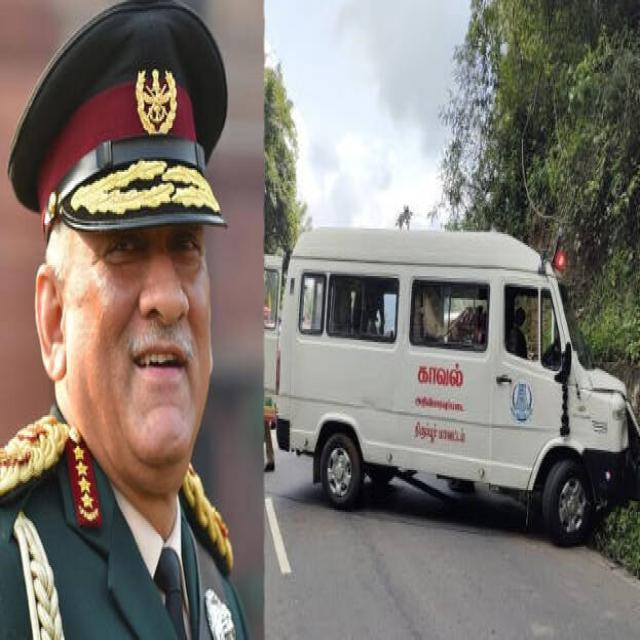accident: (265, 229, 640, 544)
car: (289, 227, 385, 275)
